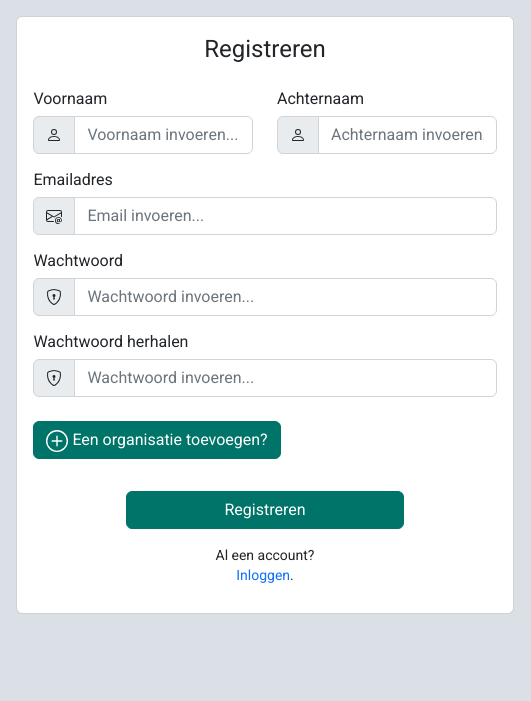
Test case: Testing the error handling responses on incorrect input. › Enter all input fiels but last name. Should return a error
Type "John" into the field with id "firstNameInput" at (164, 135), box top-left (74, 116), bottom-right (253, 154)
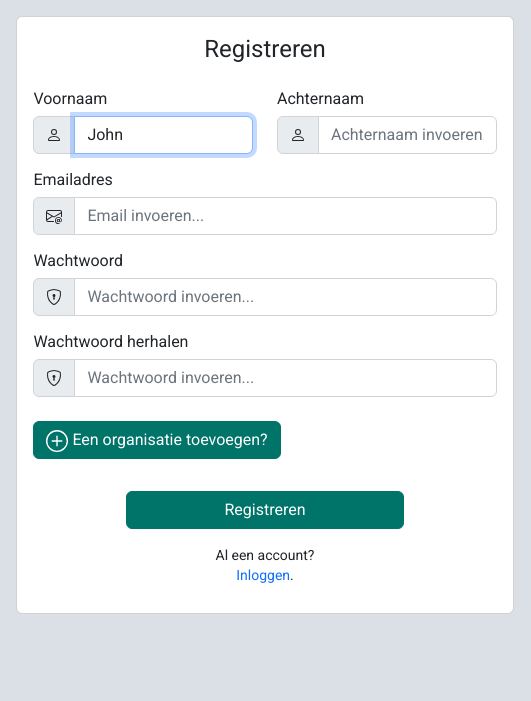
Type "JohnDoe@Chicken.com" into the field with id "emailInput" at (285, 216), box top-left (74, 197), bottom-right (496, 235)
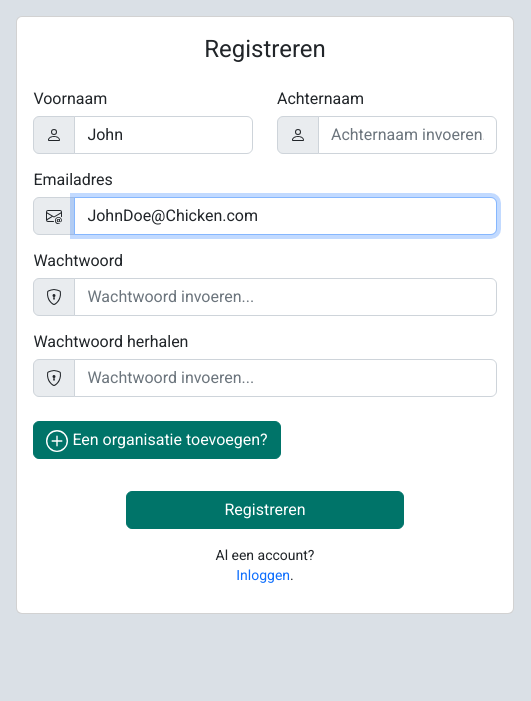
Type "123456" into the password field labelled "Wachtwoord" at (285, 297), box top-left (74, 278), bottom-right (496, 316)
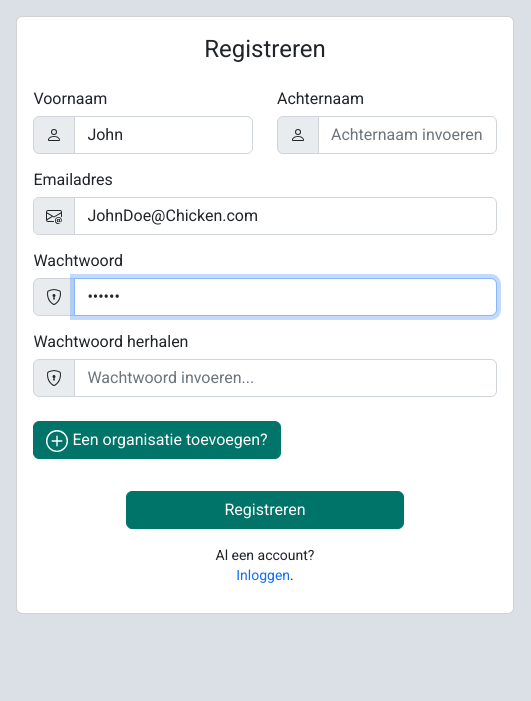
Type "123456" into the password field with id "repeatPasswordInput" at (285, 378), box top-left (74, 359), bottom-right (496, 397)
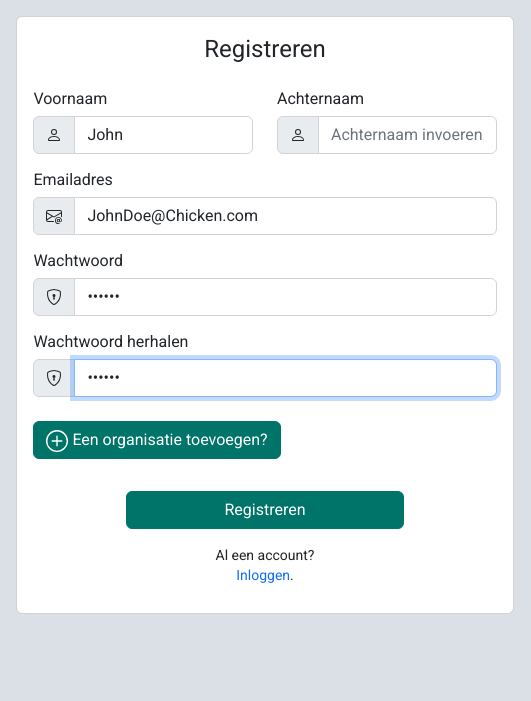
Click the button "Registreren" at (265, 510), box top-left (126, 491), bottom-right (404, 529)
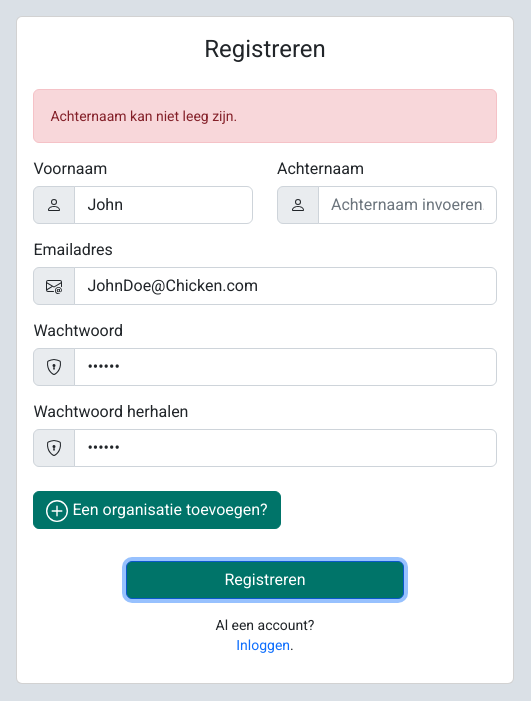
Now the text "Achternaam kan niet leeg zijn." is shown once, box top-left (50, 108), bottom-right (237, 124)
Now the text "Achternaam kan niet leeg zijn." is shown, box top-left (33, 89), bottom-right (497, 143)
